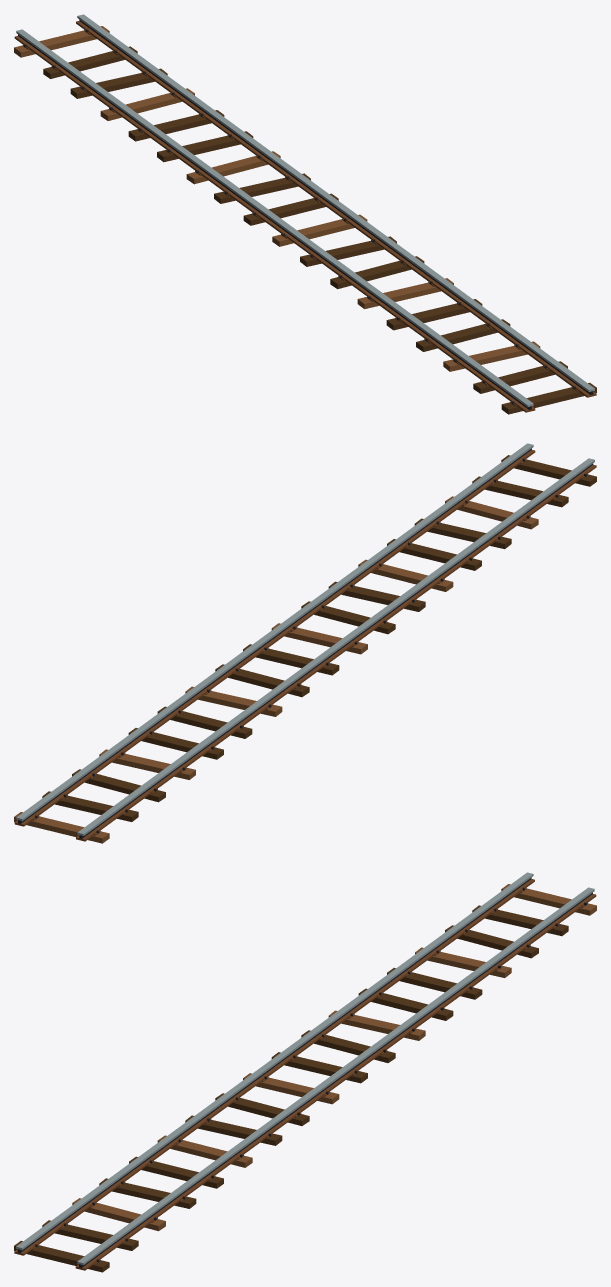
File: mia-rails.glb
3 renders of one model, top to bottom at view 1: azimuth 30°, elevation 25°; view 2: azimuth 150°, elevation 25°; view 3: azimuth 330°, elevation 25°, orthographic.
Parts seen in each view (by area): view 1: Body_wood, Body_steel, Body_rust, Body_oak, Body_iron; view 2: Body_wood, Body_steel, Body_rust, Body_oak, Body_iron; view 3: Body_wood, Body_steel, Body_rust, Body_oak, Body_iron.
Part boxes in pixels (<box>): Body_wood: <box>43,46,596,414</box>; Body_steel: <box>16,14,594,407</box>; Body_rust: <box>14,21,596,412</box>; Body_oak: <box>14,26,540,371</box>; Body_iron: <box>18,19,593,409</box>; Body_wood: <box>42,455,596,821</box>; Body_steel: <box>16,443,594,835</box>; Body_rust: <box>14,450,596,841</box>; Body_oak: <box>14,496,538,843</box>; Body_iron: <box>18,448,593,838</box>; Body_wood: <box>14,905,568,1272</box>; Body_steel: <box>16,872,594,1265</box>; Body_rust: <box>14,879,596,1270</box>; Body_oak: <box>72,884,596,1231</box>; Body_iron: <box>17,877,592,1267</box>.
Bounding box in the file's own units: 1.31 × 0.1845 × 13.
